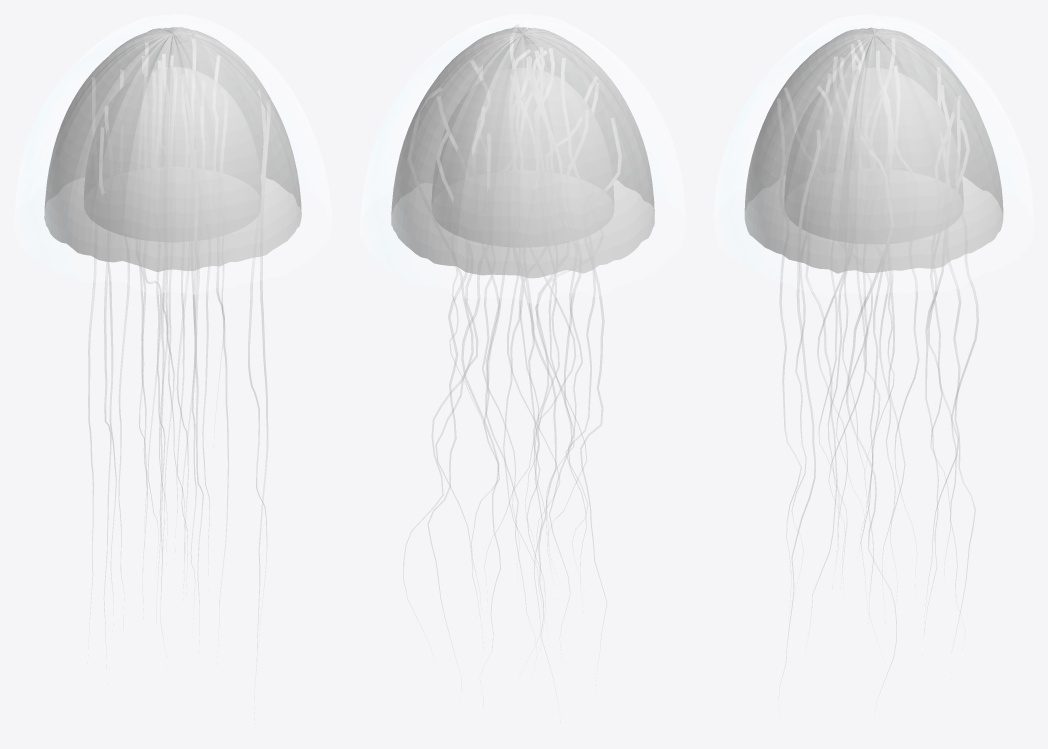
File: meduse_liquefie2.fbx
The picture shows the model from 3 angles, left to right: view 1: azimuth 30°, elevation 25°; view 2: azimuth 150°, elevation 25°; view 3: azimuth 270°, elevation 25°; orthographic projection. The views are drawn at different scales.
Visible parts, largest first — view 1: Cube; view 2: Cube; view 3: Cube.
Part boxes in pixels (x1,y1,x2,y2): Cube: (14,14,331,648); Cube: (360,14,685,651); Cube: (714,14,1033,657).
Size of the model in its own units: 2.18 by 2.18 by 5.21.
